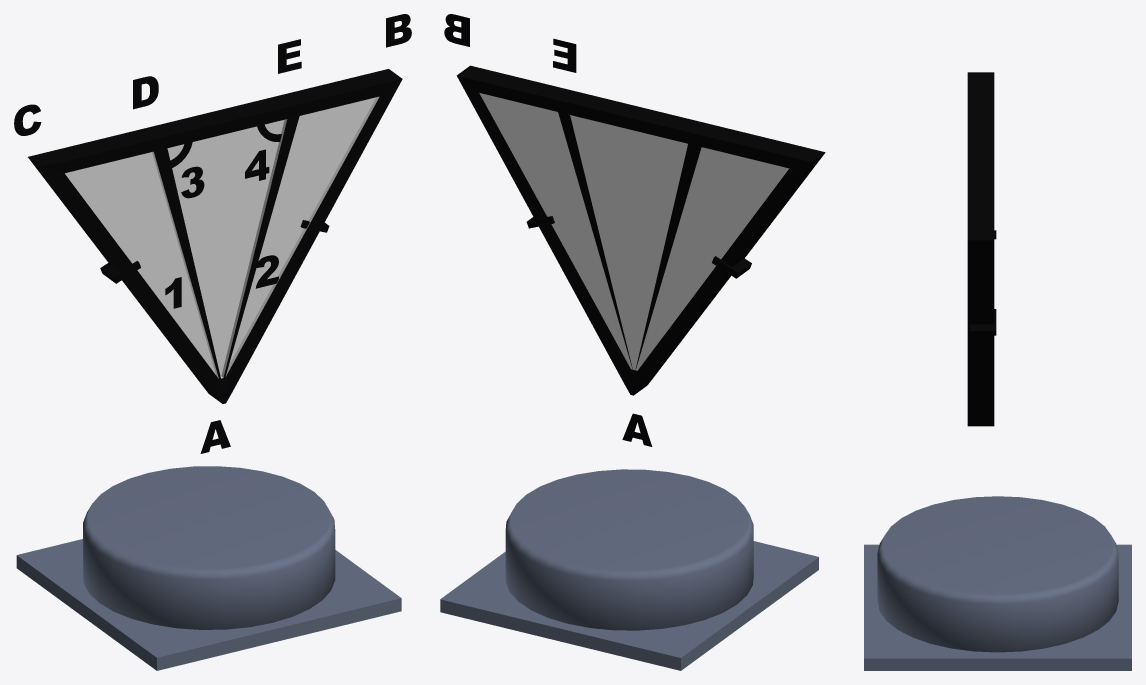
3 renders of one model, left to right at view 1: azimuth 30°, elevation 25°; view 2: azimuth 150°, elevation 25°; view 3: azimuth 270°, elevation 25°, orthographic. The views are drawn at different scales.
Visible parts, largest first — view 1: Cube.001, Cube, Text.004, Text.001; view 2: Cube.001, Cube, Text.004; view 3: Cube, Cube.001.
Boxes of the visible parts, x1=… form: Cube.001: x1=28, y1=69, x2=402, y2=403; Cube: x1=16, y1=466, x2=401, y2=670; Text.004: x1=386, y1=14, x2=411, y2=47; Text.001: x1=133, y1=76, x2=158, y2=109; Cube.001: x1=456, y1=65, x2=825, y2=395; Cube: x1=440, y1=469, x2=818, y2=670; Text.004: x1=444, y1=14, x2=469, y2=46; Cube: x1=864, y1=496, x2=1131, y2=670; Cube.001: x1=967, y1=72, x2=994, y2=426.
Size of the model in its own units: 14.86 by 19.13 by 9.09.
